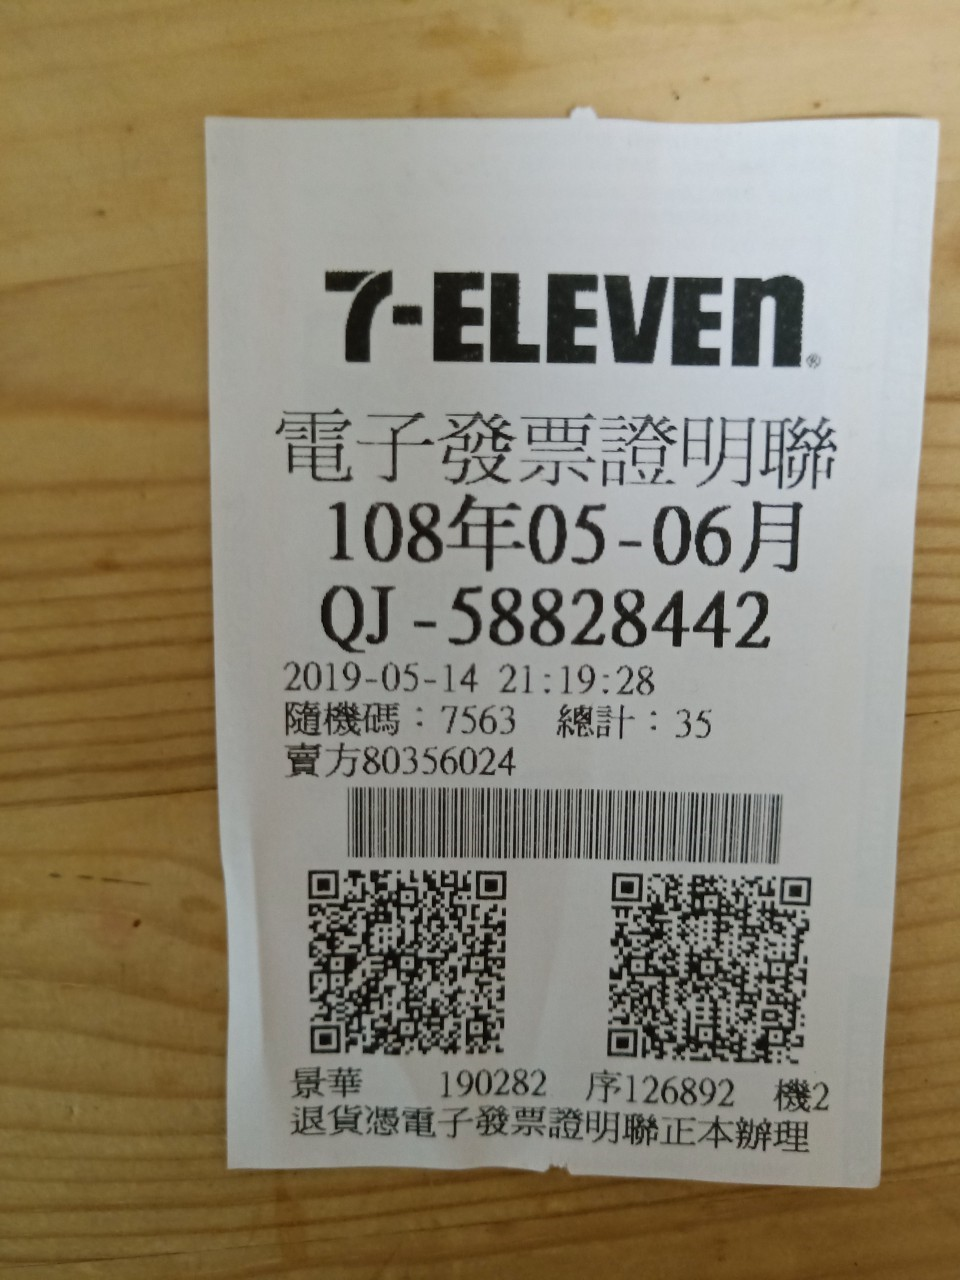Date_New: (325, 492, 808, 578)
Number_New: (446, 578, 773, 653)
